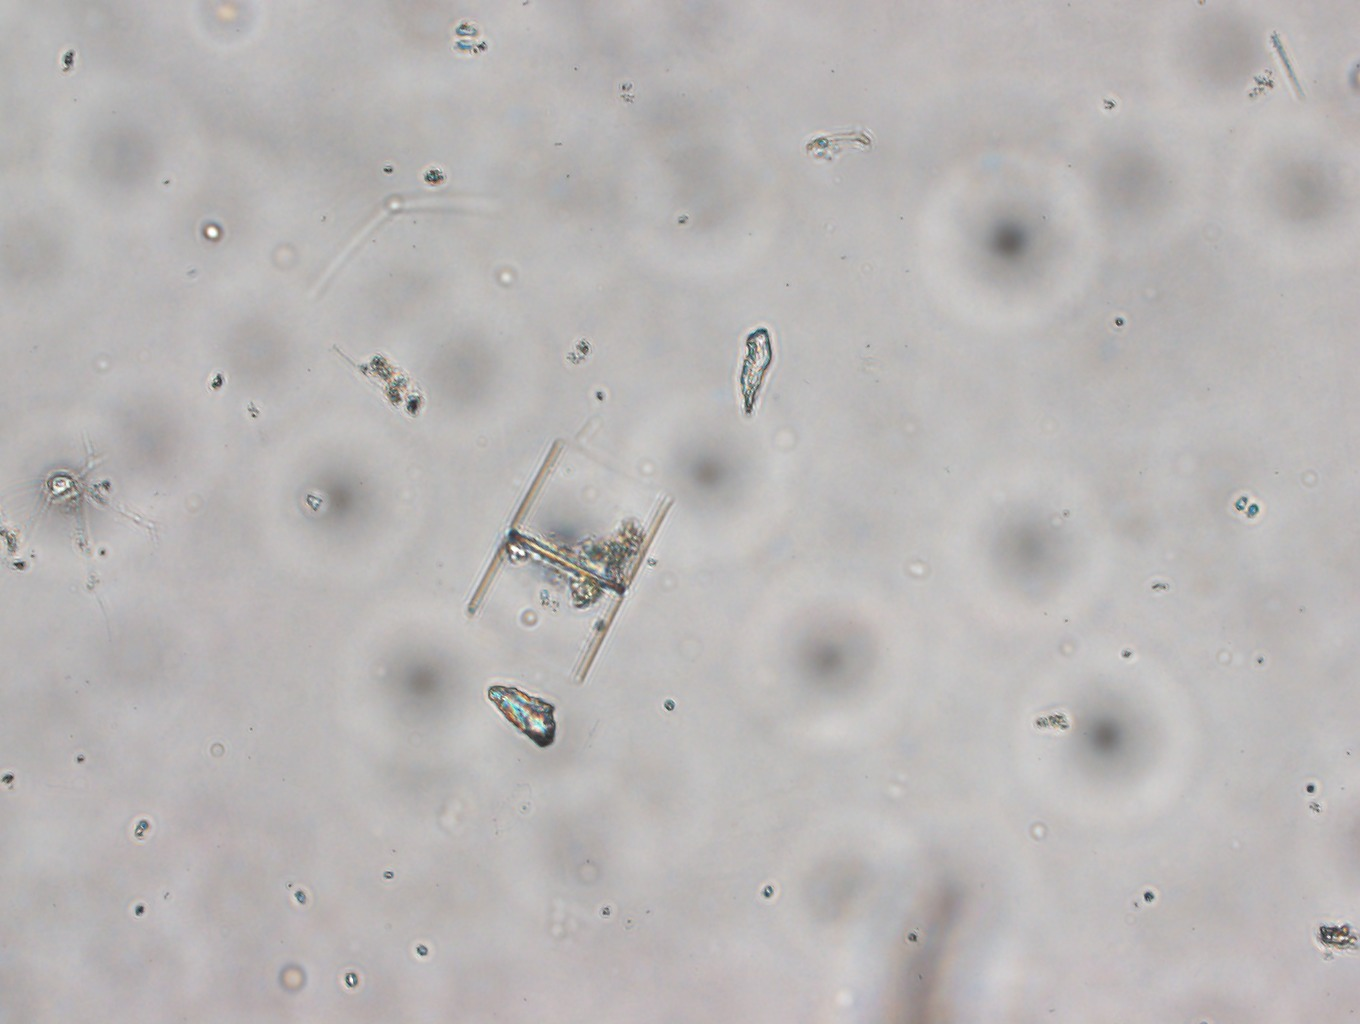guinardia flaccida: (466, 437, 674, 682)
